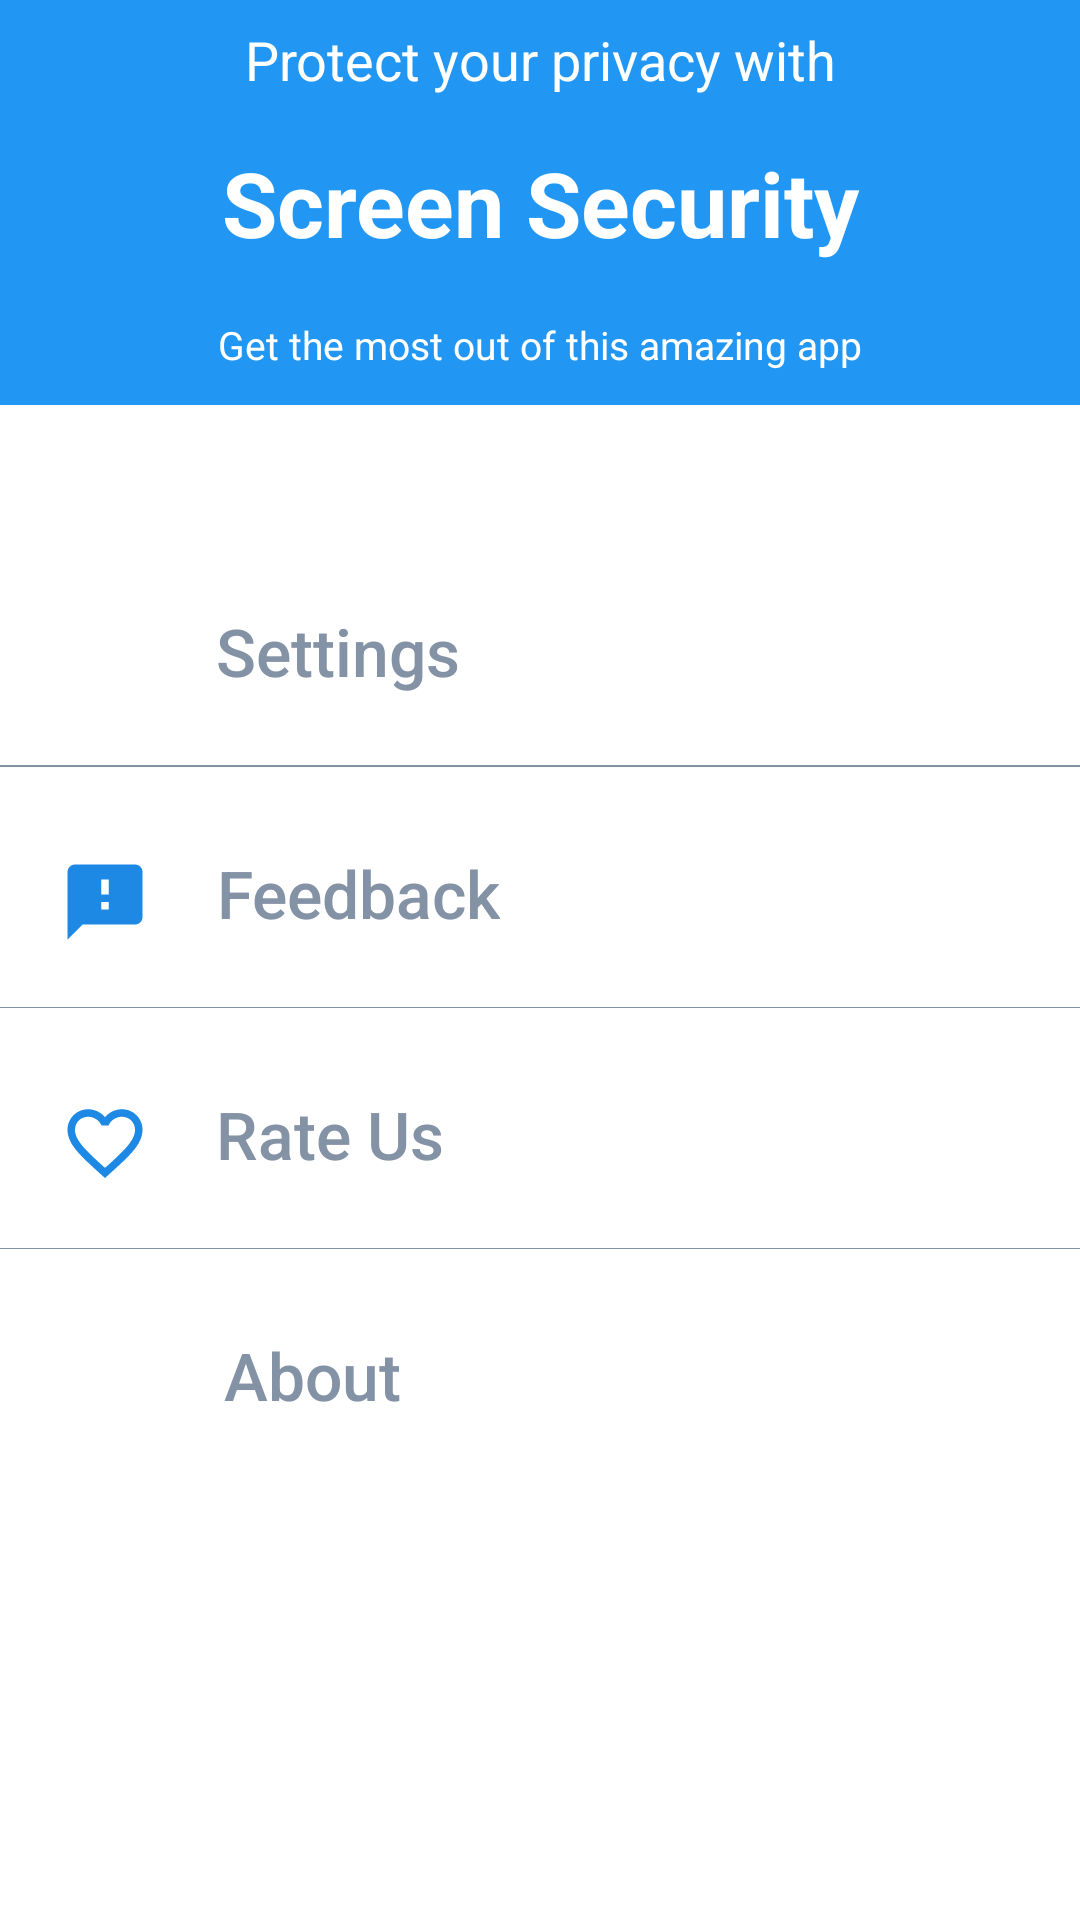

Icon click points for this 1080×1920 phone screenshot, format [x,y]:
favorite border: [105,1143]
